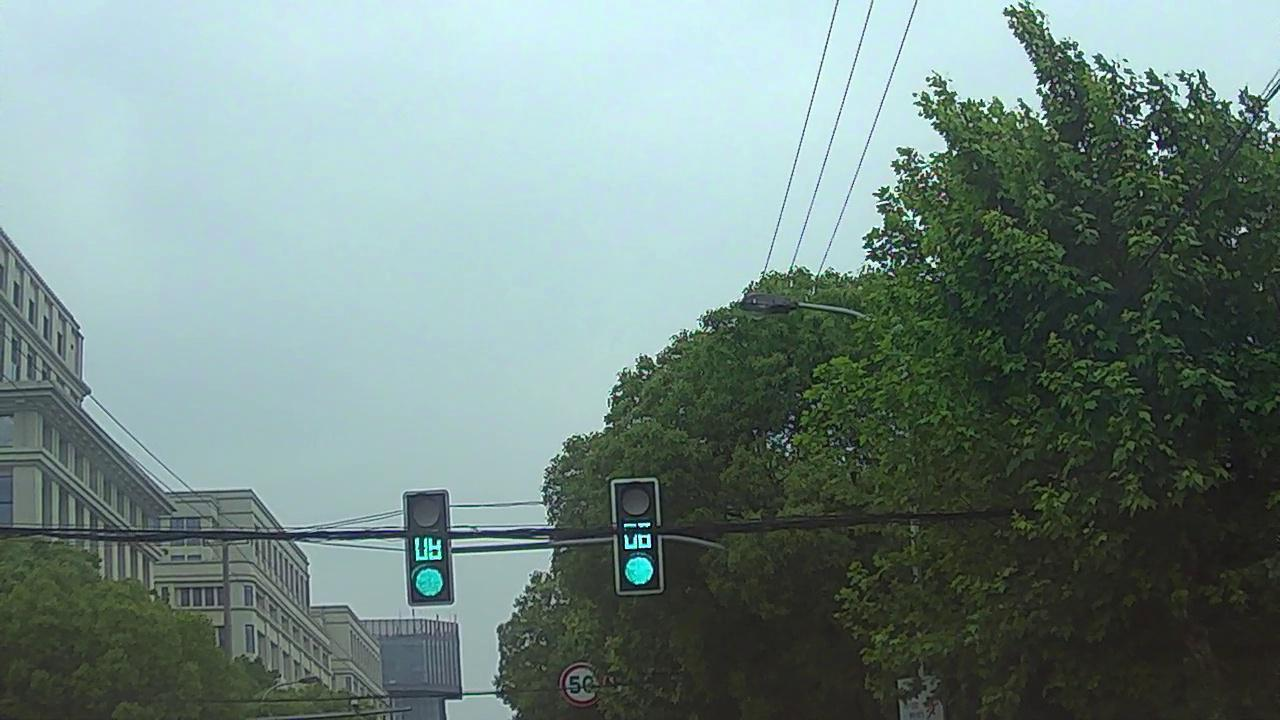traffic_light: (614, 478, 660, 592), (406, 493, 454, 602)
